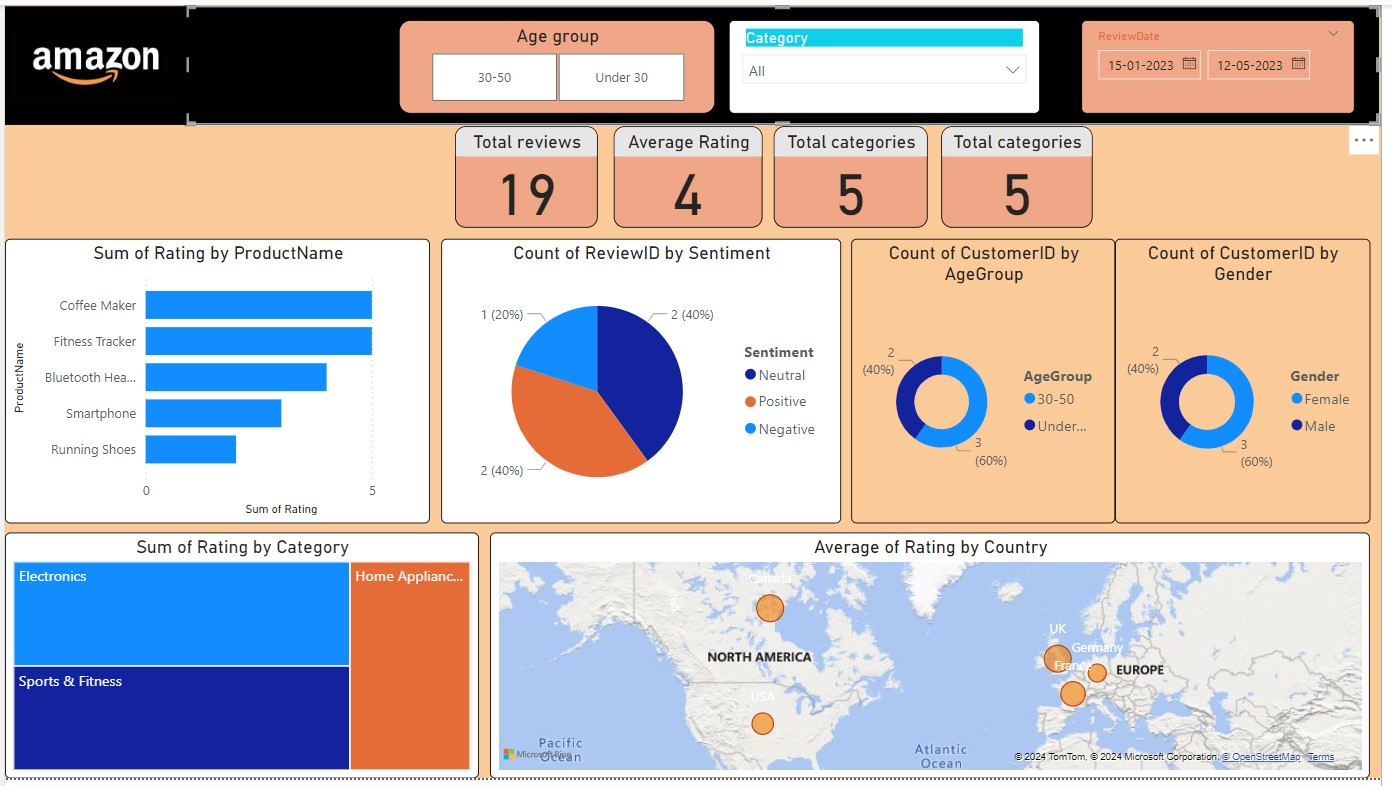

Layout of this report page (visuals, bound fields, positions):
{"tool":"powerbi","page":{"name":"Page 1","canvas":[1280,720],"ordinal":0},"visuals":[{"type":"shape","box":[167.4,1.2,1111.6,110.5],"z":0},{"type":"image","box":[0,1.2,168.6,110.5],"z":1000},{"type":"barChart","fields":{"Category":["product_reviews.ProductName"],"Y":["Sum(product_reviews.Rating)"]},"box":[0,217.4,395.3,265.1],"z":2000},{"type":"pieChart","fields":{"Category":["product_reviews.Sentiment"],"Y":["CountNonNull(product_reviews.ReviewID)"]},"box":[405.8,217.4,372.1,265.1],"z":3000},{"type":"map","fields":{"Category":["product_reviews.Country"],"Size":["Avg(product_reviews.Rating)"]},"box":[451.2,490.7,818.6,229.1],"z":4000},{"type":"donutChart","fields":{"Category":["product_reviews.Gender"],"Y":["CountNonNull(product_reviews.CustomerID)"]},"box":[1032.6,217.4,237.2,265.1],"z":5000},{"type":"donutChart","fields":{"Category":["product_reviews.AgeGroup"],"Y":["CountNonNull(product_reviews.CustomerID)"]},"box":[787.2,217.4,245.3,265.1],"z":6000},{"type":"slicer","fields":{"Values":["product_reviews.Category"]},"box":[673.3,14,289.5,87.2],"z":7000},{"type":"slicer","fields":{"Values":["product_reviews.ReviewDate"]},"box":[1001.2,14,254.7,87.2],"z":8000},{"type":"treemap","fields":{"Values":["Sum(product_reviews.Rating)"],"Group":["product_reviews.Category"]},"box":[0,490.7,440.7,229.1],"z":9000},{"type":"card","title":"Total reviews","fields":{"Values":["product_reviews.total review"]},"box":[418.6,112.8,132.6,94.2],"z":10000},{"type":"card","title":"Average Rating","fields":{"Values":["product_reviews.AVG"]},"box":[566.3,112.8,138.4,94.2],"z":11000},{"type":"card","title":"Total categories","fields":{"Values":["CountNonNull(product_reviews.Category)"]},"box":[715.1,112.8,143,94.2],"z":12000},{"type":"card","title":"Total categories","fields":{"Values":["CountNonNull(product_reviews.Category)"]},"box":[870.9,112.8,140.7,94.2],"z":13000},{"type":"slicer","title":"Age group","fields":{"Values":["product_reviews.AgeGroup"]},"box":[366.3,14,294.2,87.2],"z":13001}]}

Visuals, with their boxes in screenshot pixels (x1, y1, x2, y2), scaled from the page's 1280x720 canvas onto the 1392x786 screenshot:
shape: [left=182, top=1, right=1391, bottom=122]
image: [left=0, top=1, right=183, bottom=122]
barChart - product_reviews.ProductName x Sum(product_reviews.Rating): [left=0, top=237, right=430, bottom=527]
pieChart - product_reviews.Sentiment x CountNonNull(product_reviews.ReviewID): [left=441, top=237, right=846, bottom=527]
map - product_reviews.Country x Avg(product_reviews.Rating): [left=491, top=536, right=1381, bottom=785]
donutChart - product_reviews.Gender x CountNonNull(product_reviews.CustomerID): [left=1123, top=237, right=1381, bottom=527]
donutChart - product_reviews.AgeGroup x CountNonNull(product_reviews.CustomerID): [left=856, top=237, right=1123, bottom=527]
slicer - product_reviews.Category: [left=732, top=15, right=1047, bottom=110]
slicer - product_reviews.ReviewDate: [left=1089, top=15, right=1366, bottom=110]
treemap - Sum(product_reviews.Rating) x product_reviews.Category: [left=0, top=536, right=479, bottom=785]
"Total reviews" card: [left=455, top=123, right=599, bottom=226]
"Average Rating" card: [left=616, top=123, right=766, bottom=226]
"Total categories" card: [left=778, top=123, right=933, bottom=226]
"Total categories" card: [left=947, top=123, right=1100, bottom=226]
"Age group" slicer: [left=398, top=15, right=718, bottom=110]
